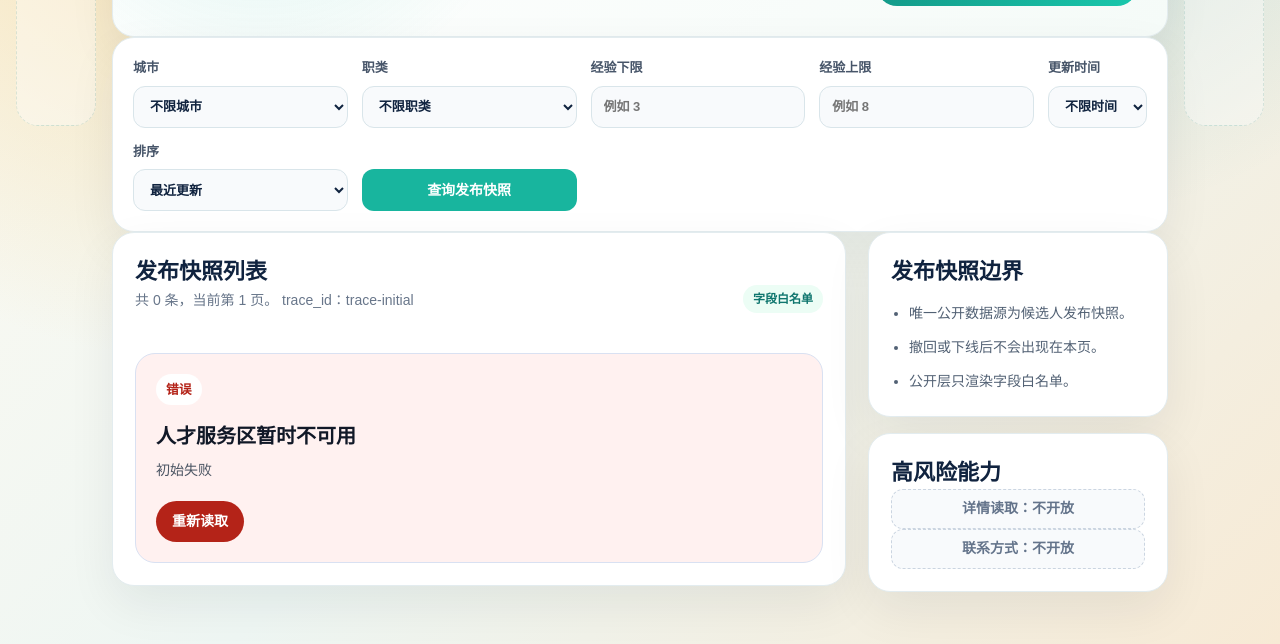
Test case: TalentServiceArea › retries from error state and renders returned snapshots
(page scrolled)
Step 1. Click the button "重新读取" → {"x": 200, "y": 522}, box [156, 501, 244, 542]
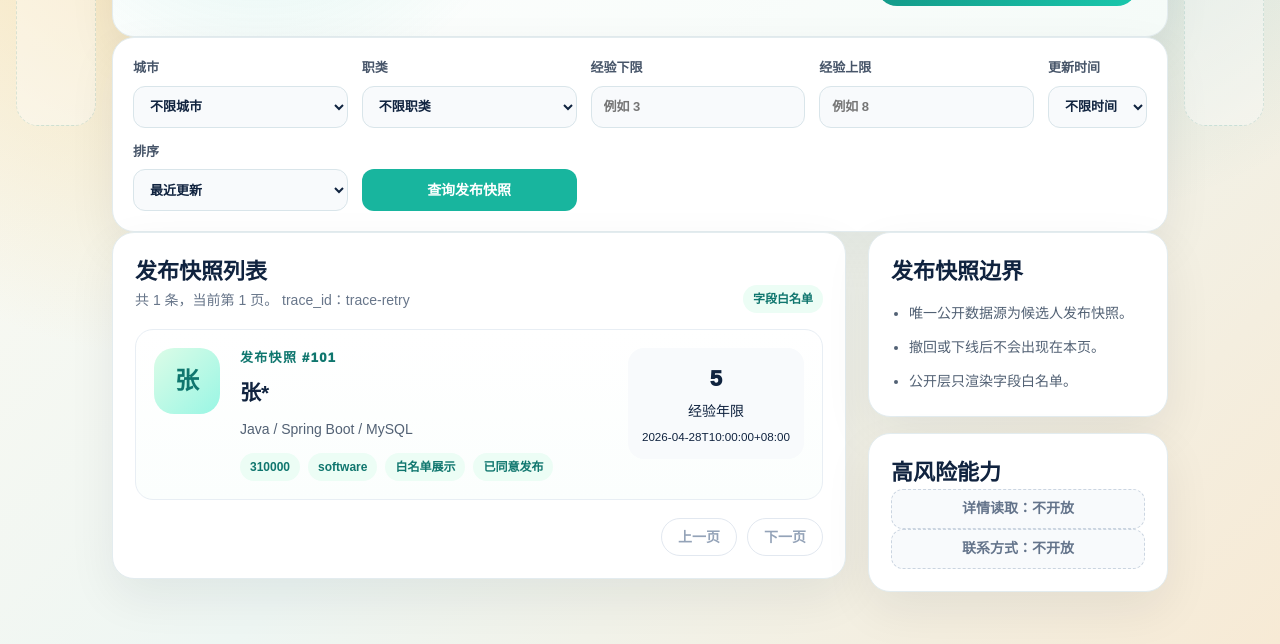
Expected: the heading "张*" is shown, [240, 381, 269, 404]
Expected: the text "共 1 条，当前第 1 页。 trace_id：trace-retry" is shown, [135, 288, 410, 313]
